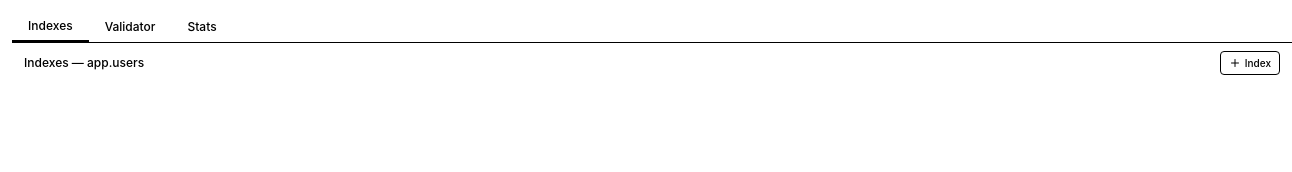
Test: MongoStructurePanel (Sprint 350 — tracer Indexes/Validator shell) › mounts CollectionStatsPanel on the Stats sub-sub-tab
This screenshot has width=1292, height=172.
What coordinates should you click on to do the following:
click the tab "Stats"
I would click on:
 (202, 27)
Its box is 172,13 -> 233,41.
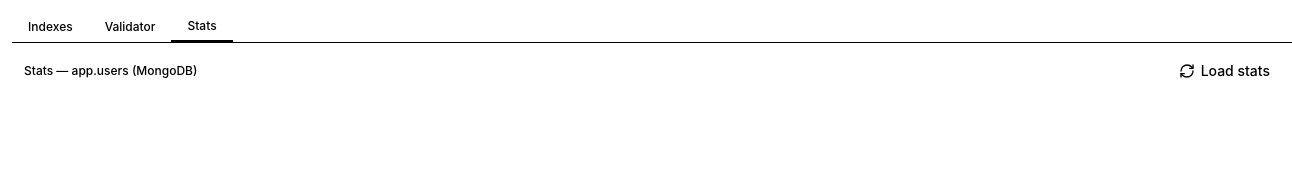
Expected: the element with test id "collection-stats-panel" is shown, 24,55 -> 1280,87
Expected: the element with test id "mongo-indexes-panel" is gone
